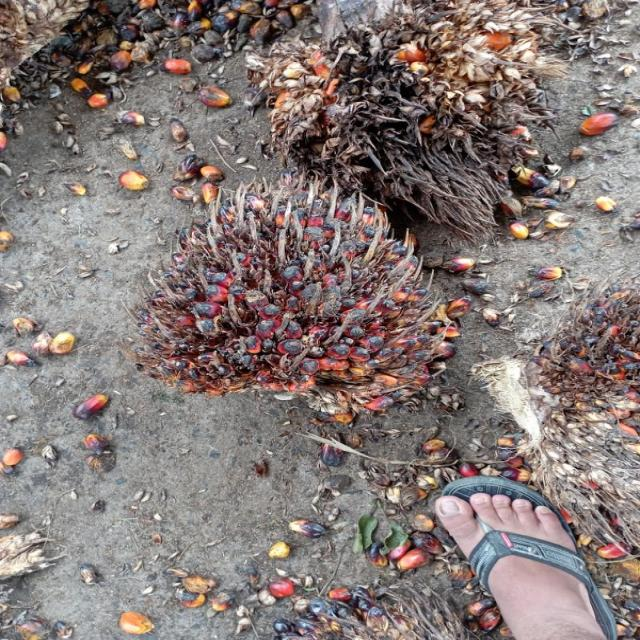fraksi 1: (96, 146, 457, 443)
